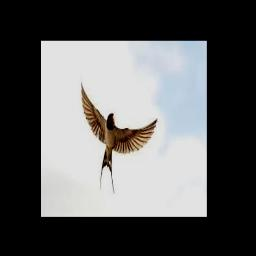Swallow: (80, 82, 157, 194)
